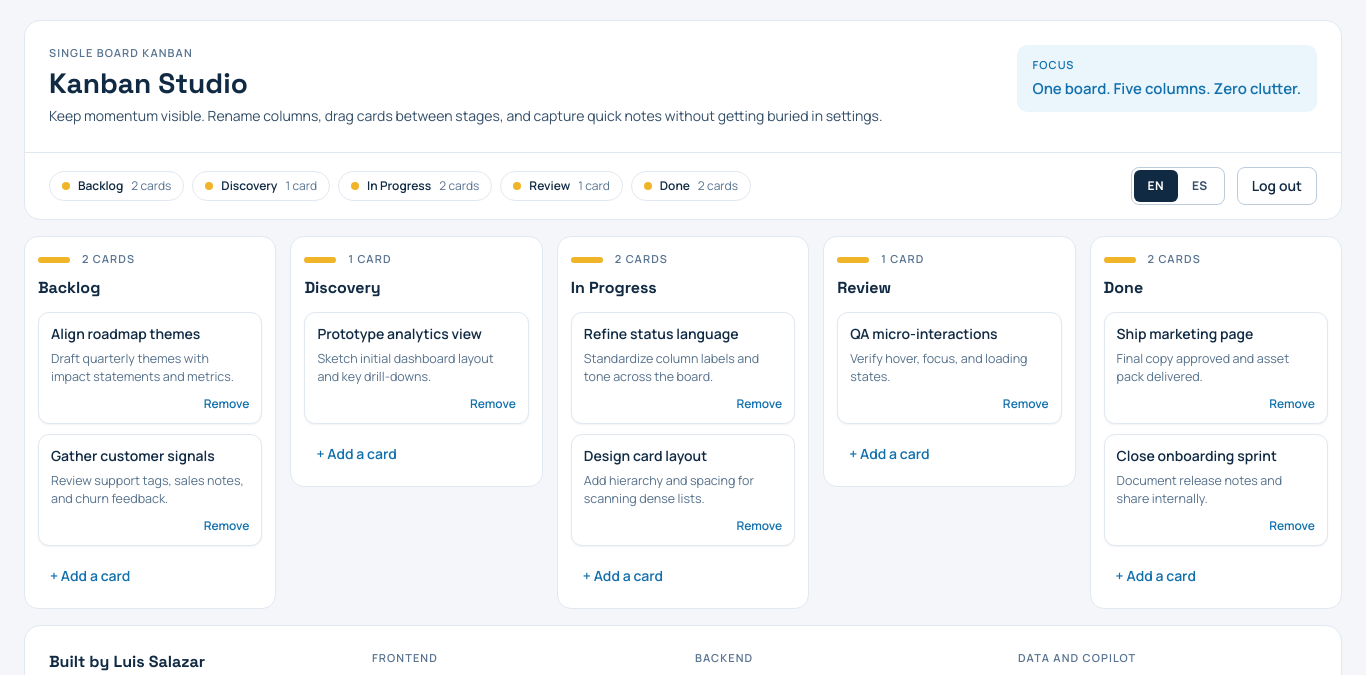
Test: KanbanBoard › edits card details with a double click and discards changes on escape
The width and height of the screenshot is (1366, 675).
Double-click the text "Draft quarterly themes with impact statements and metrics." at (150, 368), box [51, 350, 249, 386]
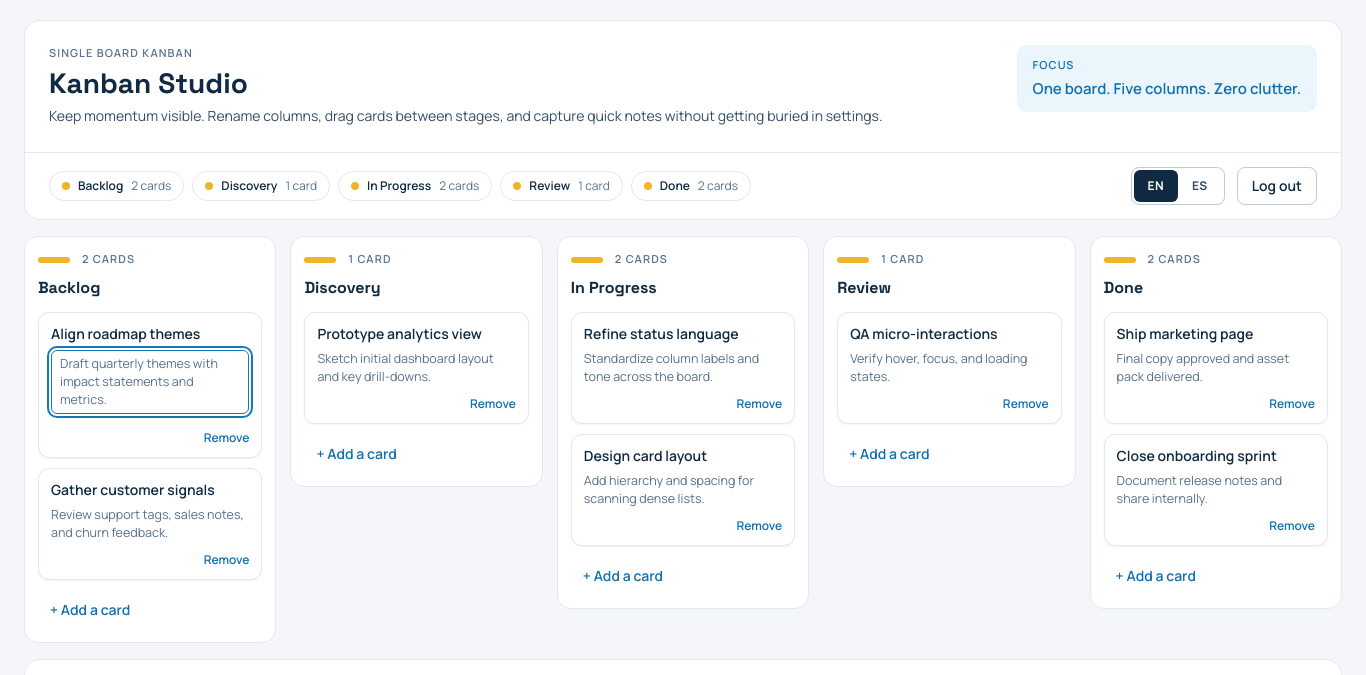
Replace the text in the text box named "Edit card details" with "Updated details." at (150, 382), box [51, 350, 249, 414]
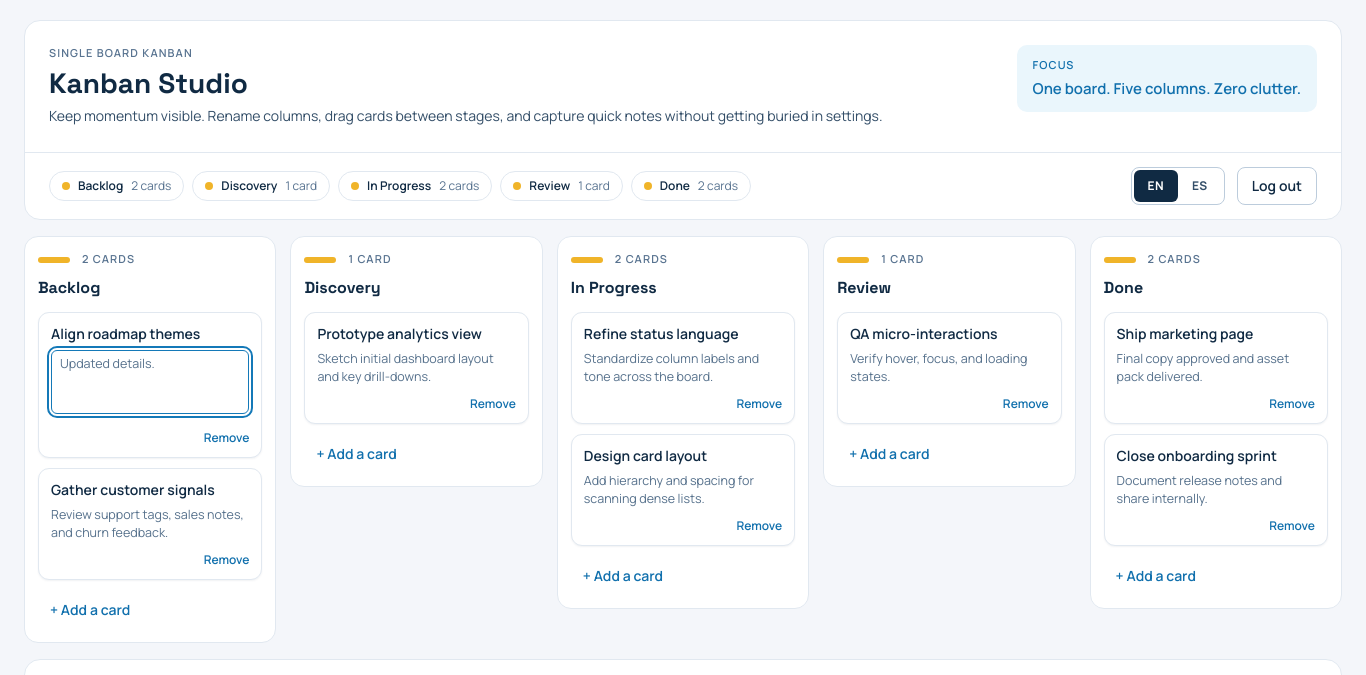
Press Tab
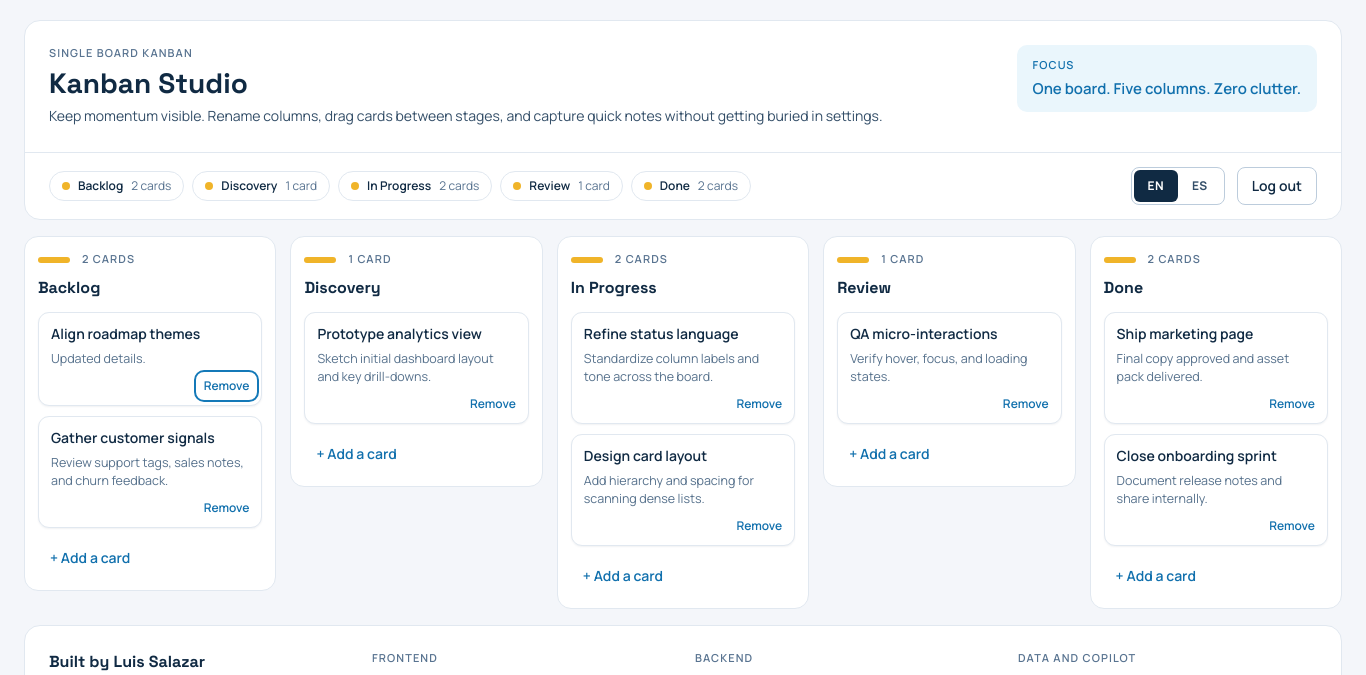
Expected: the text "Updated details." is shown
Double-click the text "Updated details." at (98, 358), box [51, 350, 146, 367]
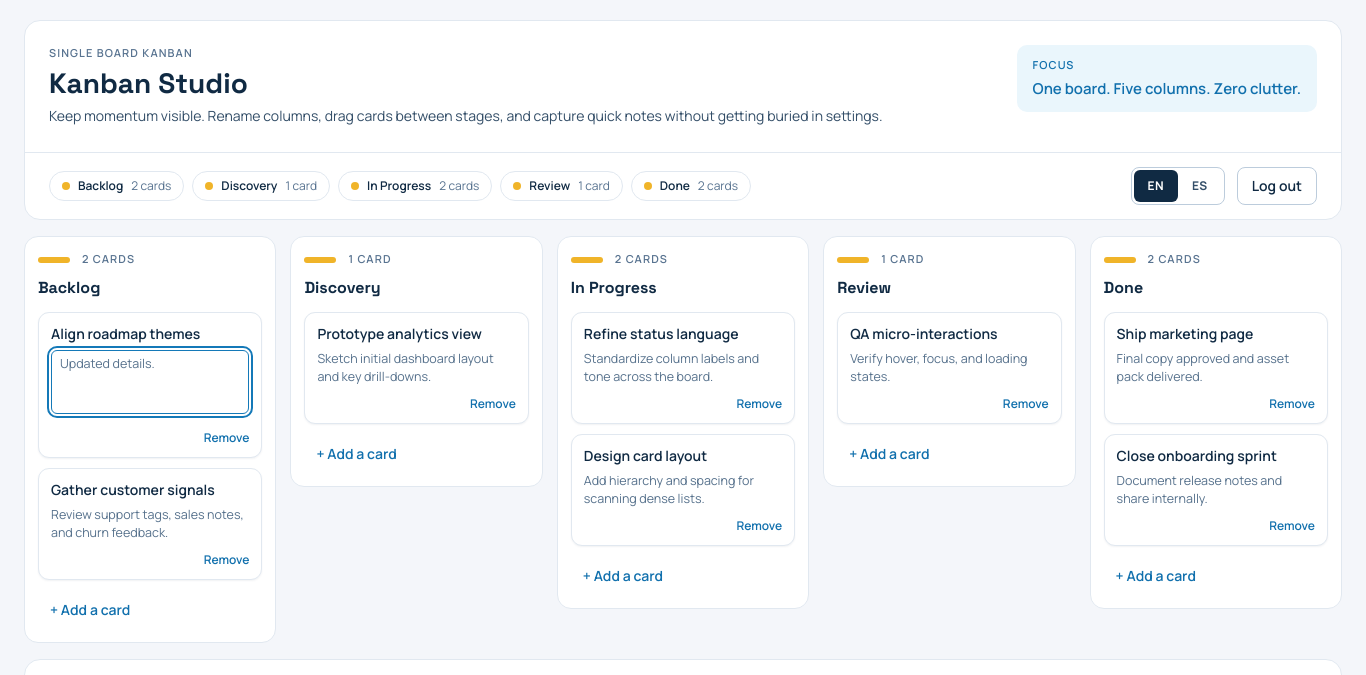
Replace the text in the text box named "Edit card details" with "Discarded text" at (150, 382), box [51, 350, 249, 414]
Then press Escape
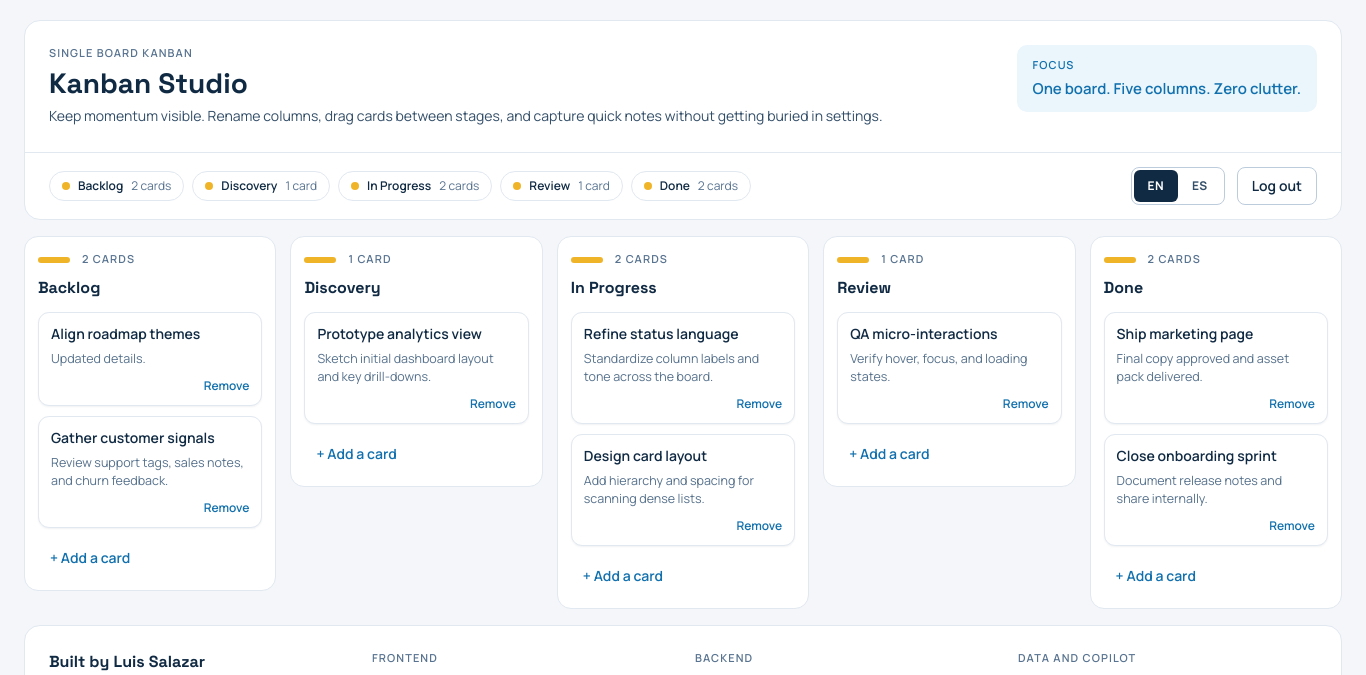
Expected: the text "Updated details." is shown, [51, 350, 146, 367]
